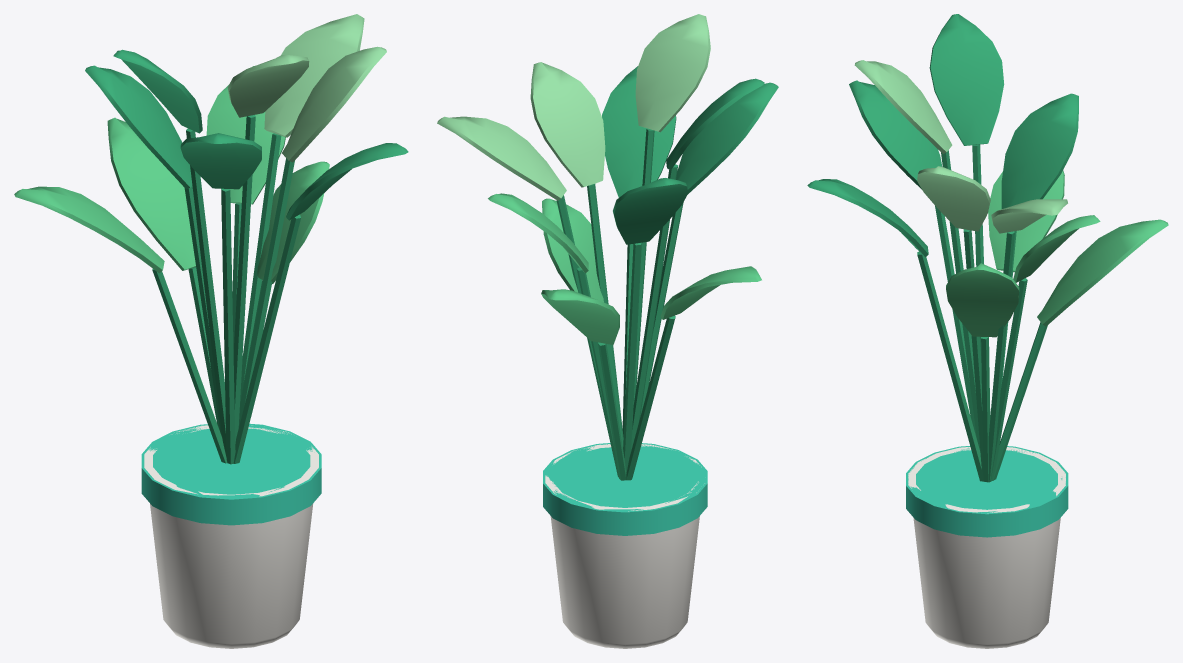
The model's file is plant_tall.glb.
3 renders of one model, left to right at view 1: azimuth 30°, elevation 25°; view 2: azimuth 150°, elevation 25°; view 3: azimuth 270°, elevation 25°, orthographic. The views are drawn at different scales.
Parts seen in each view (by area): view 1: PlantTall; view 2: PlantTall; view 3: PlantTall.
Boxes of the visible parts, bbox=[...] form: PlantTall: bbox=[14, 14, 408, 648]; PlantTall: bbox=[437, 14, 778, 648]; PlantTall: bbox=[807, 14, 1168, 648].
Size of the model in its own units: 1.01 by 1.7 by 0.9925.
